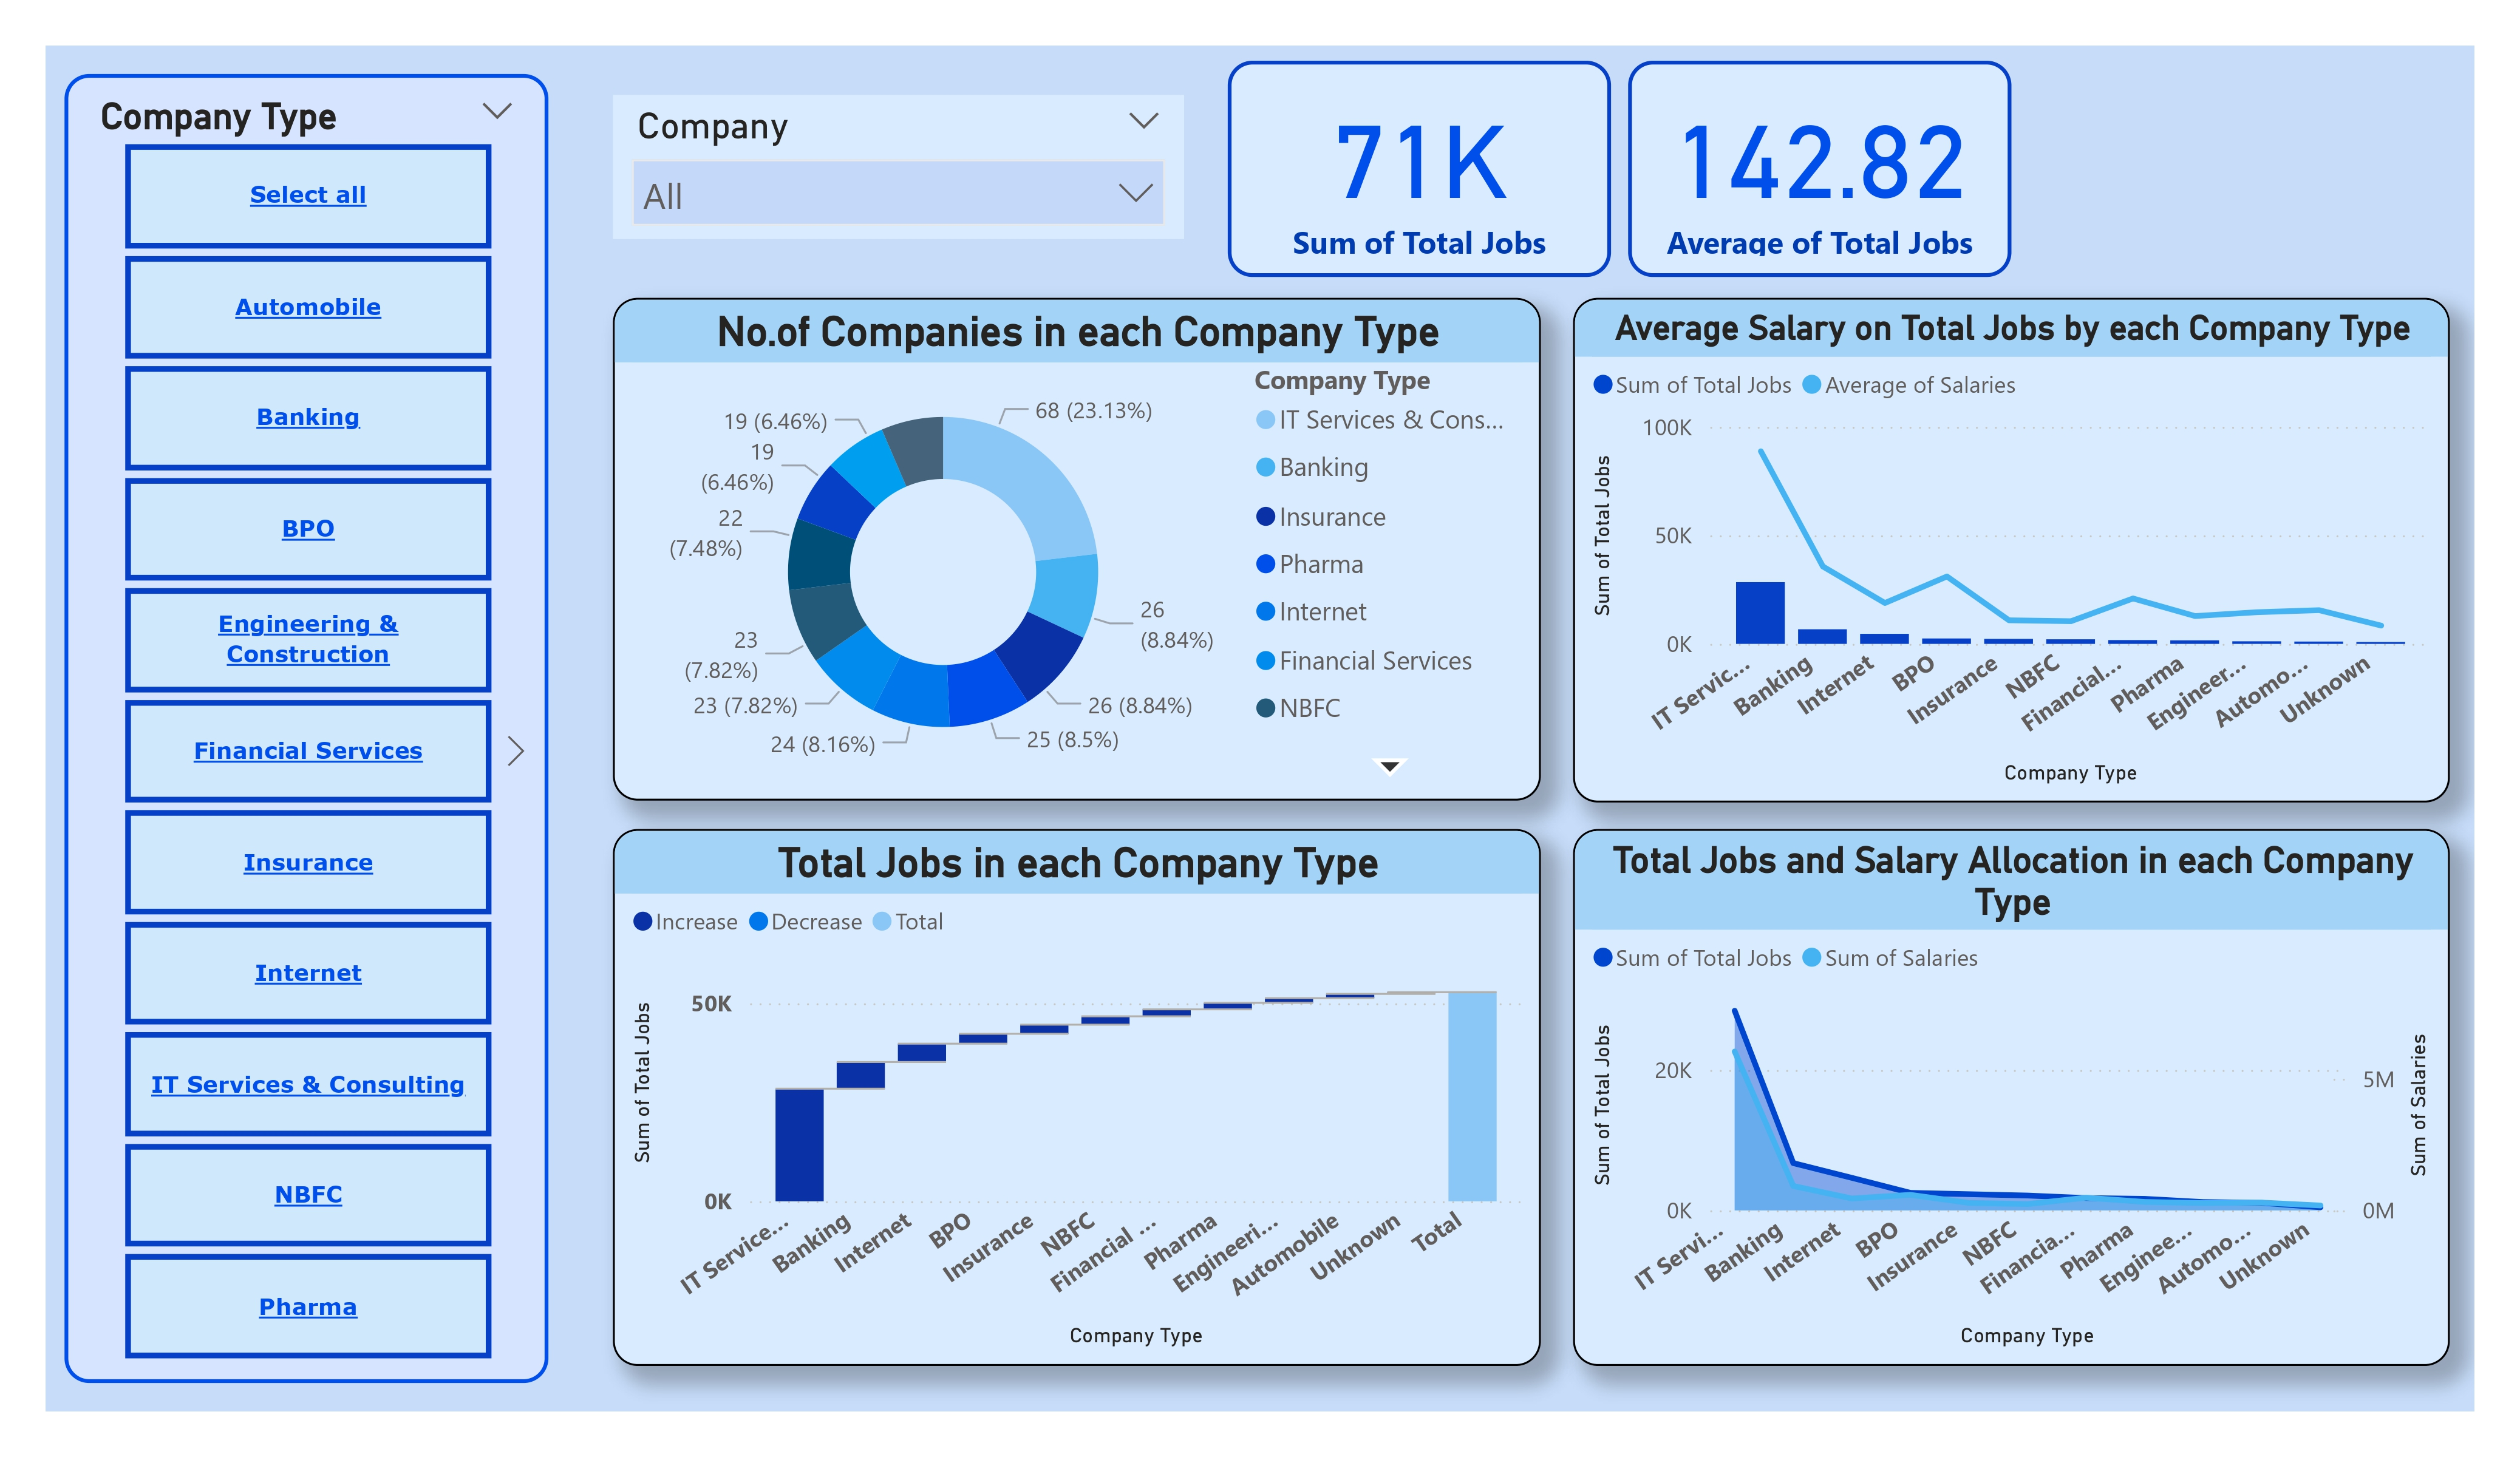

Layout of this report page (visuals, bound fields, positions):
{"tool":"powerbi","page":{"name":"Analysis on Jobs","canvas":[1280,720],"ordinal":1},"visuals":[{"type":"donutChart","title":"No.of Companies in  each Company Type","fields":{"Y":["CountNonNull(Companies_500_Cleaned.Company Type)"],"Category":["Companies_500_Cleaned.Company Type"]},"box":[299.1,133.1,488.5,264.8],"z":0},{"type":"slicer","fields":{"Values":["Companies_500_Cleaned.Company"]},"box":[299.1,26.1,300.5,75.5],"z":1000},{"type":"slicer","fields":{"Values":["Companies_500_Cleaned.Company Type"]},"box":[9.6,15.1,255.2,690.2],"z":2000},{"type":"lineStackedColumnComboChart","title":"Average Salary on Total Jobs by each Company Type","fields":{"Category":["Companies_500_Cleaned.Company Type"],"Y2":["Avg(Companies_500_Cleaned.Salaries)"],"Y":["Sum(Companies_500_Cleaned.Total Jobs)"]},"box":[805.5,133.1,461.1,266.2],"z":3000},{"type":"waterfallChart","title":"Total Jobs in each Company Type","fields":{"Category":["Companies_500_Cleaned.Company Type"],"Y":["Sum(Companies_500_Cleaned.Total Jobs)"]},"box":[299.1,413,488.5,282.7],"z":4000},{"type":"areaChart","title":"Total Jobs and Salary Allocation in each Company Type","fields":{"Category":["Companies_500_Cleaned.Company Type"],"Y":["Sum(Companies_500_Cleaned.Total Jobs)"],"Y2":["Sum(Companies_500_Cleaned.Salaries)"]},"box":[805.5,413,461.1,282.7],"z":5000},{"type":"card","fields":{"Values":["Sum(Companies_500_Cleaned.Total Jobs)"]},"box":[623,8.2,201.7,113.9],"z":6000},{"type":"card","fields":{"Values":["Avg(Companies_500_Cleaned.Total Jobs)"]},"box":[834.3,8.2,201.7,113.9],"z":7000}]}

Visuals, with their boxes in screenshot pixels (x1, y1, x2, y2):
"No.of Companies in  each Company Type" donutChart: bbox=[613, 298, 1540, 800]
slicer - Companies_500_Cleaned.Company: bbox=[613, 95, 1183, 238]
slicer - Companies_500_Cleaned.Company Type: bbox=[64, 74, 548, 1384]
"Average Salary on Total Jobs by each Company Type" lineStackedColumnComboChart: bbox=[1574, 298, 2449, 803]
"Total Jobs in each Company Type" waterfallChart: bbox=[613, 829, 1540, 1365]
"Total Jobs and Salary Allocation in each Company Type" areaChart: bbox=[1574, 829, 2449, 1365]
card - Sum(Companies_500_Cleaned.Total Jobs): bbox=[1228, 61, 1610, 277]
card - Avg(Companies_500_Cleaned.Total Jobs): bbox=[1629, 61, 2011, 277]
